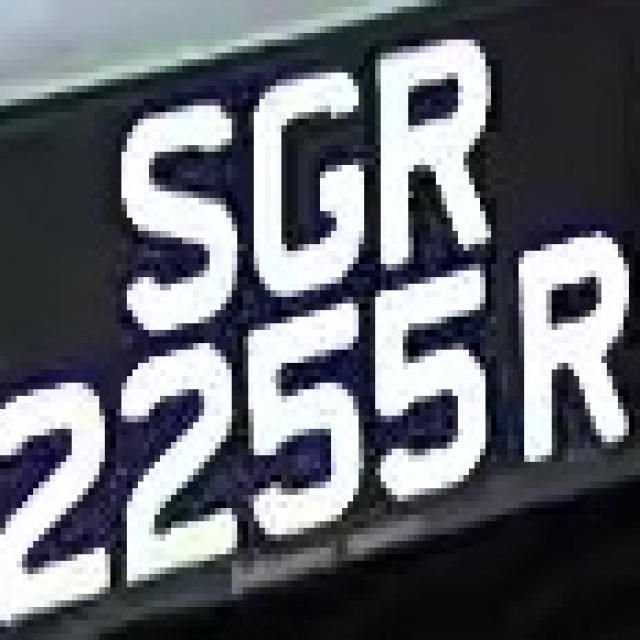2: (100, 350, 260, 594), (5, 370, 121, 620)
5: (353, 271, 486, 541), (226, 330, 370, 534)
G: (242, 59, 392, 297)
R: (348, 26, 502, 258), (497, 211, 629, 469)
S: (83, 119, 248, 343)
